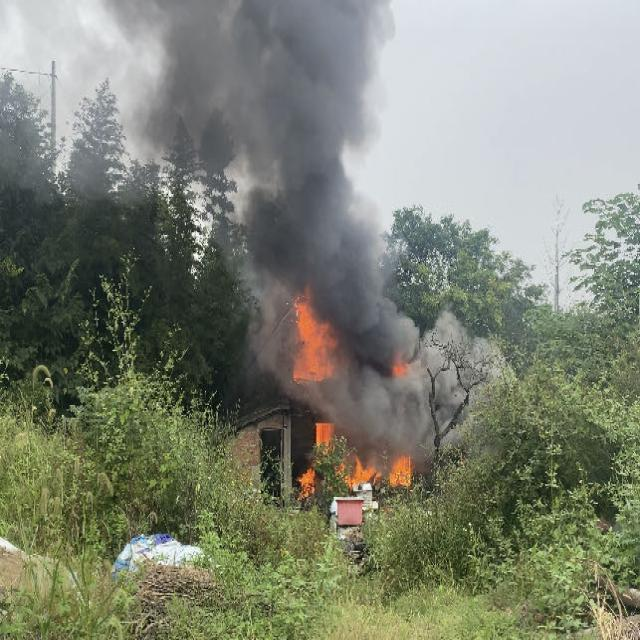Fire: (293, 297, 341, 384), (346, 447, 378, 487), (391, 451, 414, 492), (296, 465, 318, 500), (313, 422, 336, 452)
Smoke: (241, 0, 390, 291), (118, 1, 238, 142), (343, 290, 433, 445), (434, 312, 502, 444), (247, 289, 292, 383)
